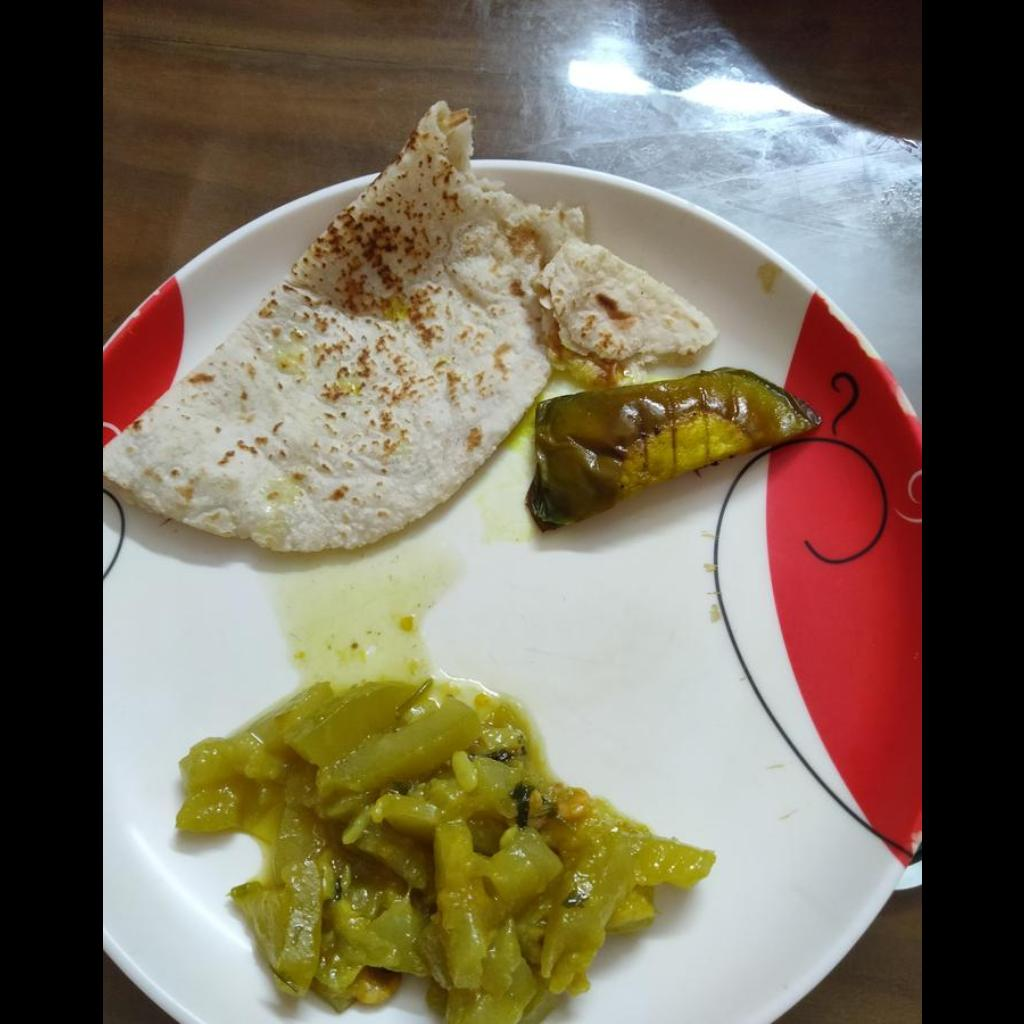begun-vaji: (534, 361, 840, 531)
lau: (185, 686, 709, 1020)
ruti: (104, 102, 718, 558)
